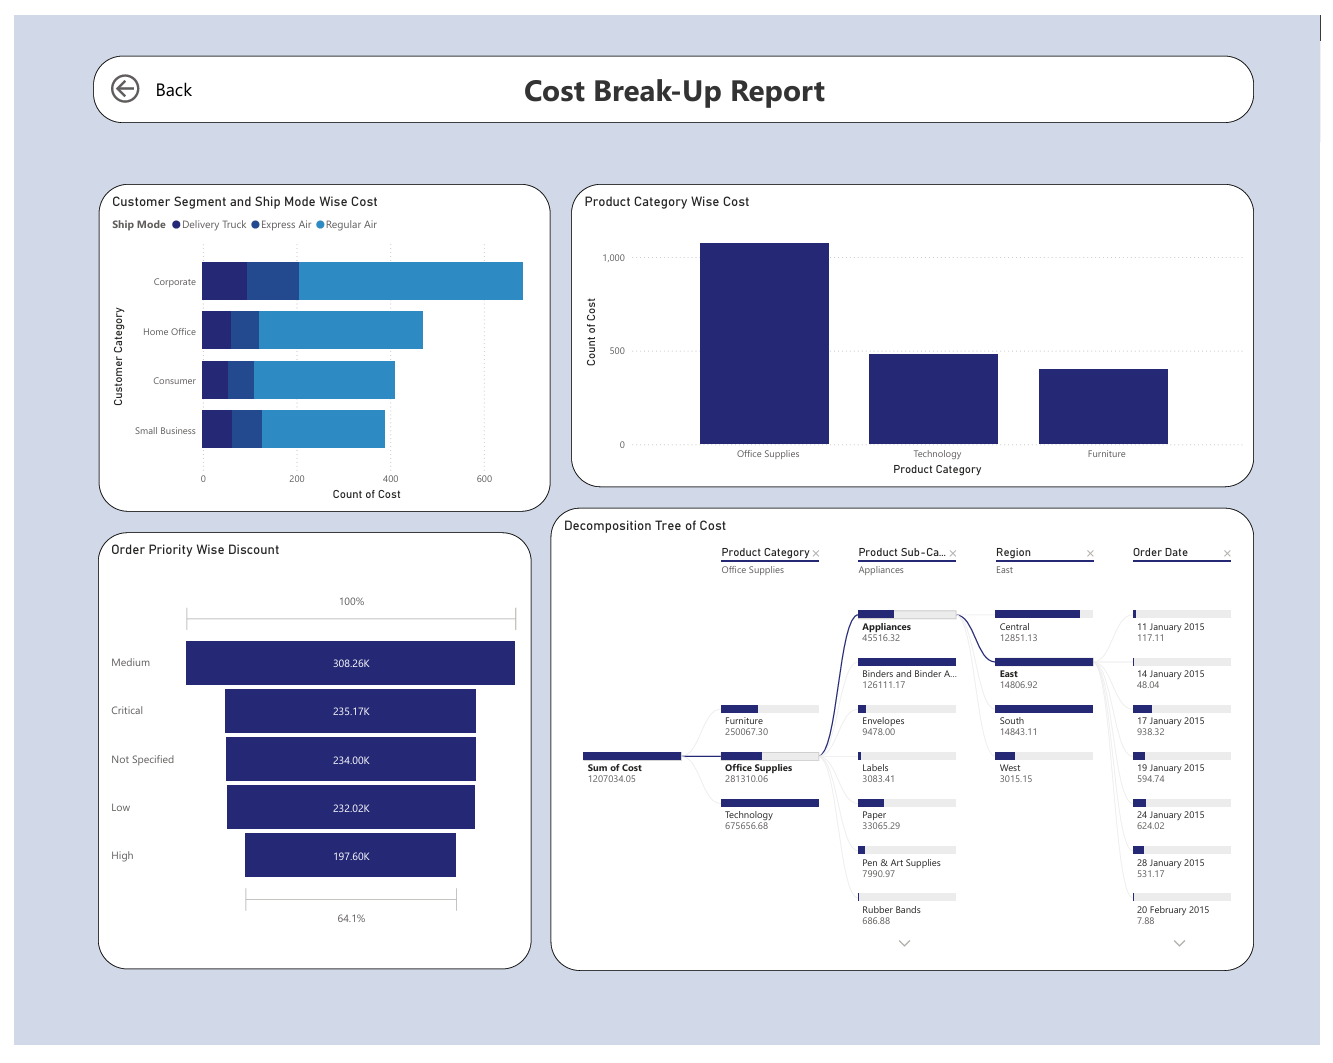

What the dashboard file says about the page in this screenshot:
{"tool":"powerbi","page":{"name":"Cost Report","canvas":[1650,1300],"ordinal":2},"visuals":[{"type":"barChart","title":"Customer Segment and Ship Mode Wise Cost","fields":{"Series":["Raw Data.Ship Mode"],"Category":["Raw Data.Customer Category"],"Y":["CountNonNull(KPI_Task.Cost)"]},"box":[106.7,213.3,571.1,413.3],"z":0},{"type":"lineClusteredColumnComboChart","title":"Product Category Wise Cost","fields":{"Category":["Raw Data.Product Category"],"Y":["CountNonNull(KPI_Task.Cost)"]},"box":[704.4,213.3,862.2,382.2],"z":1000},{"type":"funnel","title":"Order Priority Wise Discount","fields":{"Category":["Raw Data.Order Priority"],"Y":["Sum(KPI_Task.Cost)"]},"box":[106.3,652.5,547.5,552.5],"z":2000},{"type":"decompositionTreeVisual","title":"Decomposition Tree of Cost","fields":{"ExplainBy":["Raw Data.Product Category","Raw Data.Product Sub-Category","Raw Data.Region","Raw Data.Order Date.Variation.Date Hierarchy.Month"],"Analyze":["Sum(KPI_Task.Cost)"]},"box":[677.8,622.2,888.9,584.4],"z":3000},{"type":"textbox","box":[100,51.1,1466.7,84.4],"z":4000},{"type":"actionButton","box":[107.5,60,130,65],"z":5000}]}

Visuals, with their boxes in screenshot pixels (x1, y1, x2, y2), scaled from the page's 1650x1300 canvas onto the 1333x1063 screenshot:
"Customer Segment and Ship Mode Wise Cost" barChart: select_region(86, 174, 548, 512)
"Product Category Wise Cost" lineClusteredColumnComboChart: select_region(569, 174, 1266, 487)
"Order Priority Wise Discount" funnel: select_region(86, 534, 528, 985)
"Decomposition Tree of Cost" decompositionTreeVisual: select_region(548, 509, 1266, 987)
textbox: select_region(81, 42, 1266, 111)
actionButton: select_region(87, 49, 192, 102)
